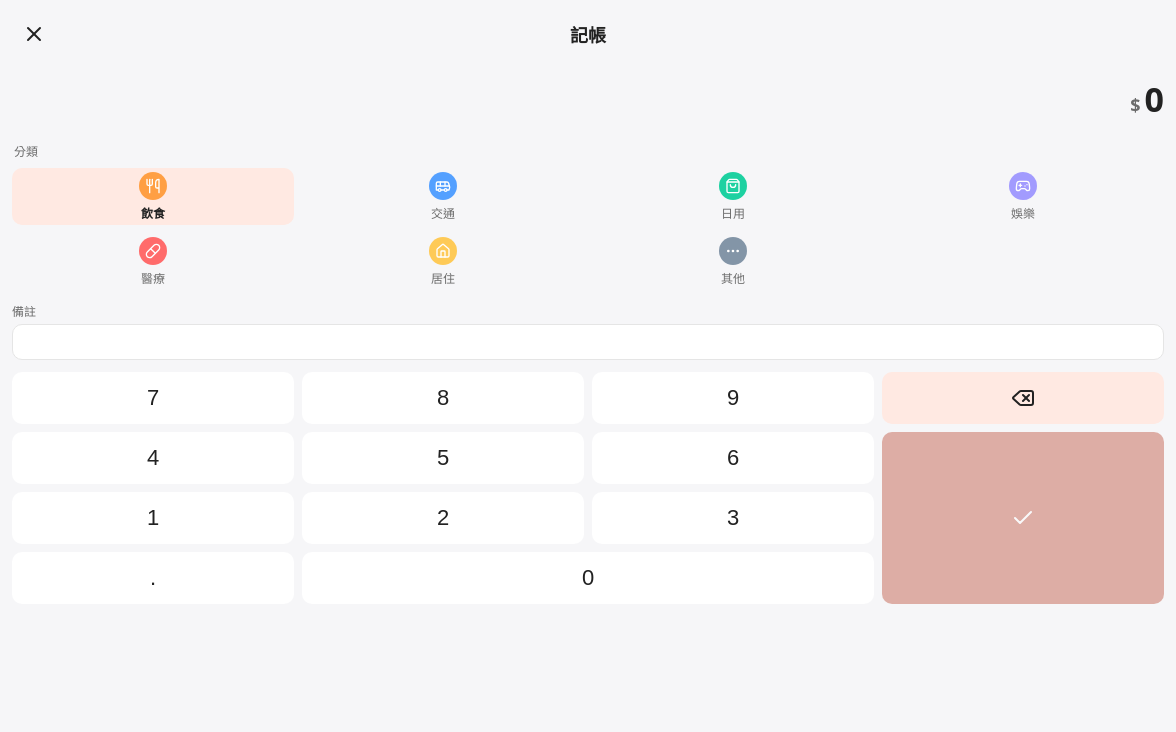
it: 記帳 /expenses/new › 其他失敗顯示通用訊息
Click the button "1" at (153, 518), box [12, 492, 294, 544]
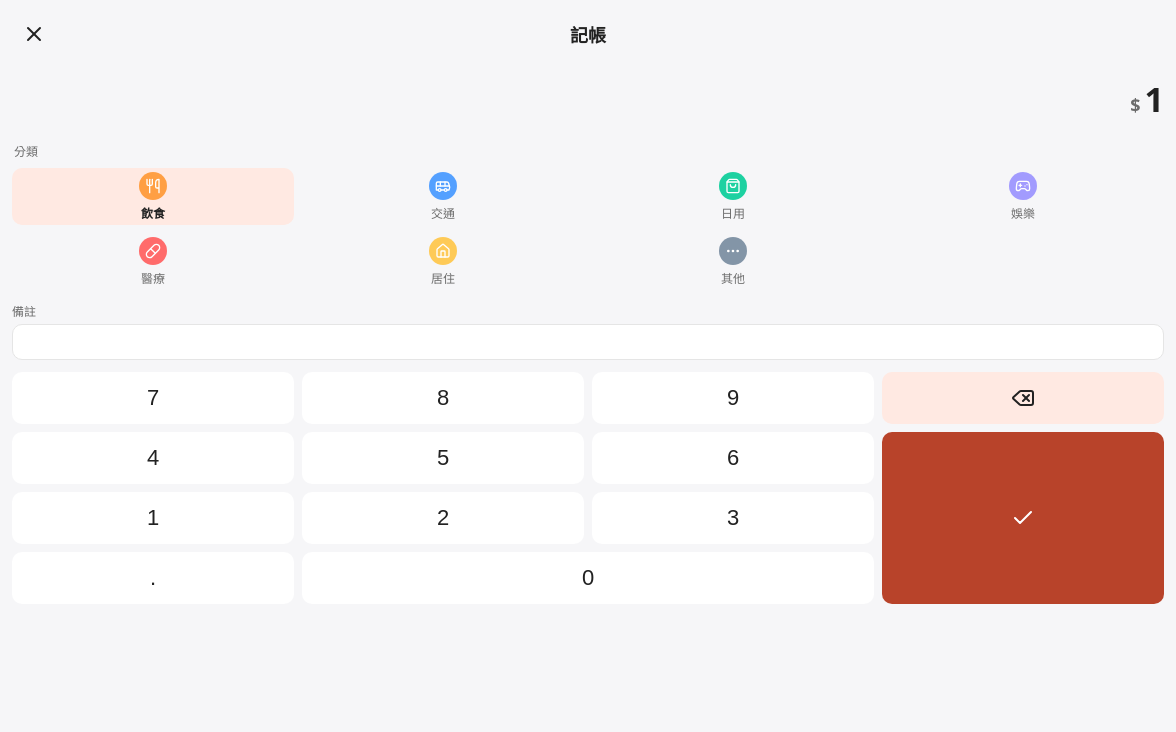
Click the button named "記一筆" at (1023, 518), box [882, 432, 1164, 604]
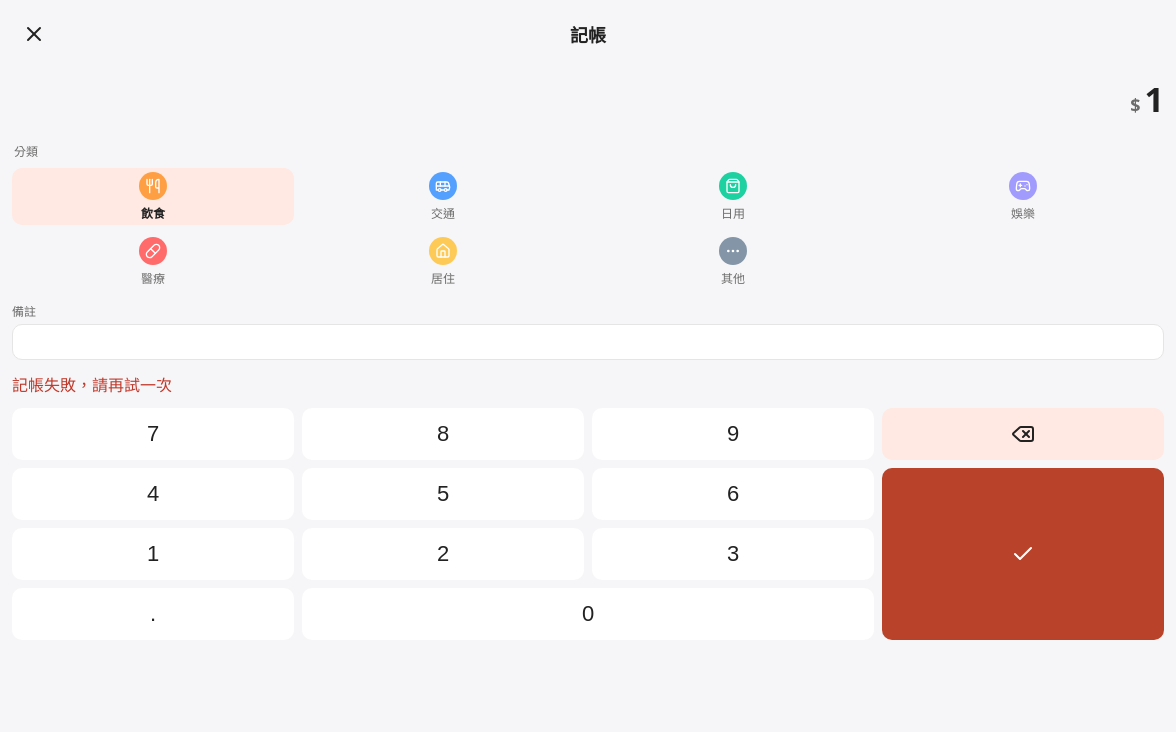
Now the message reads "記帳失敗，請再試一次", box [12, 374, 172, 396]
